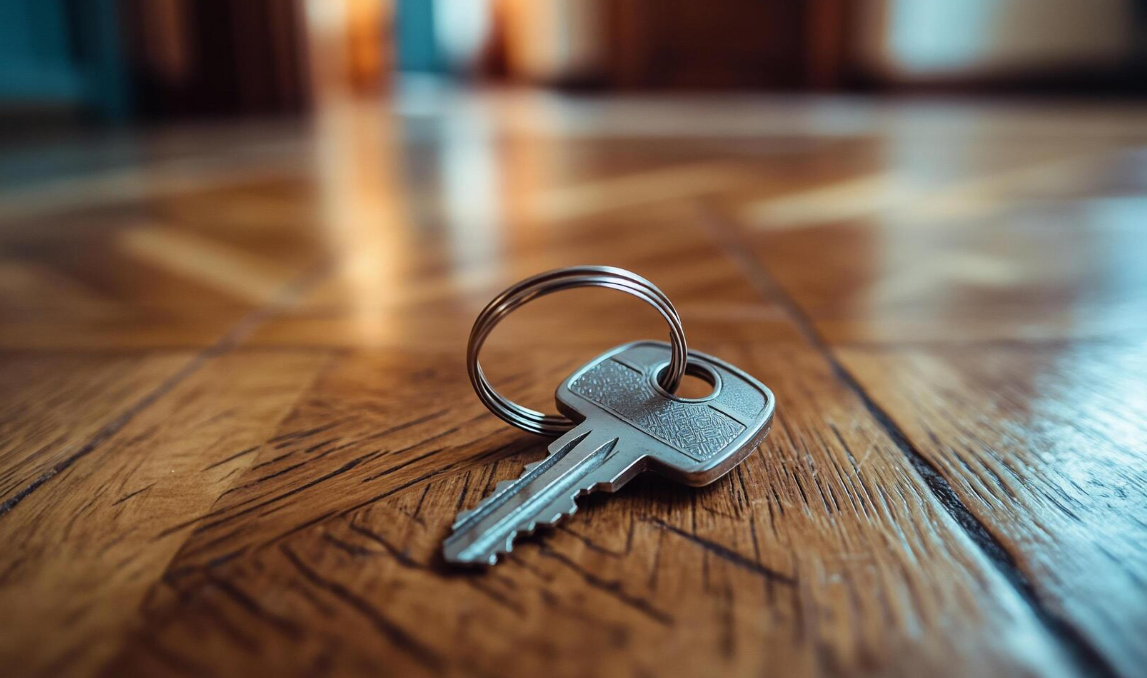Frontdoor keys: (372, 254, 871, 553)
